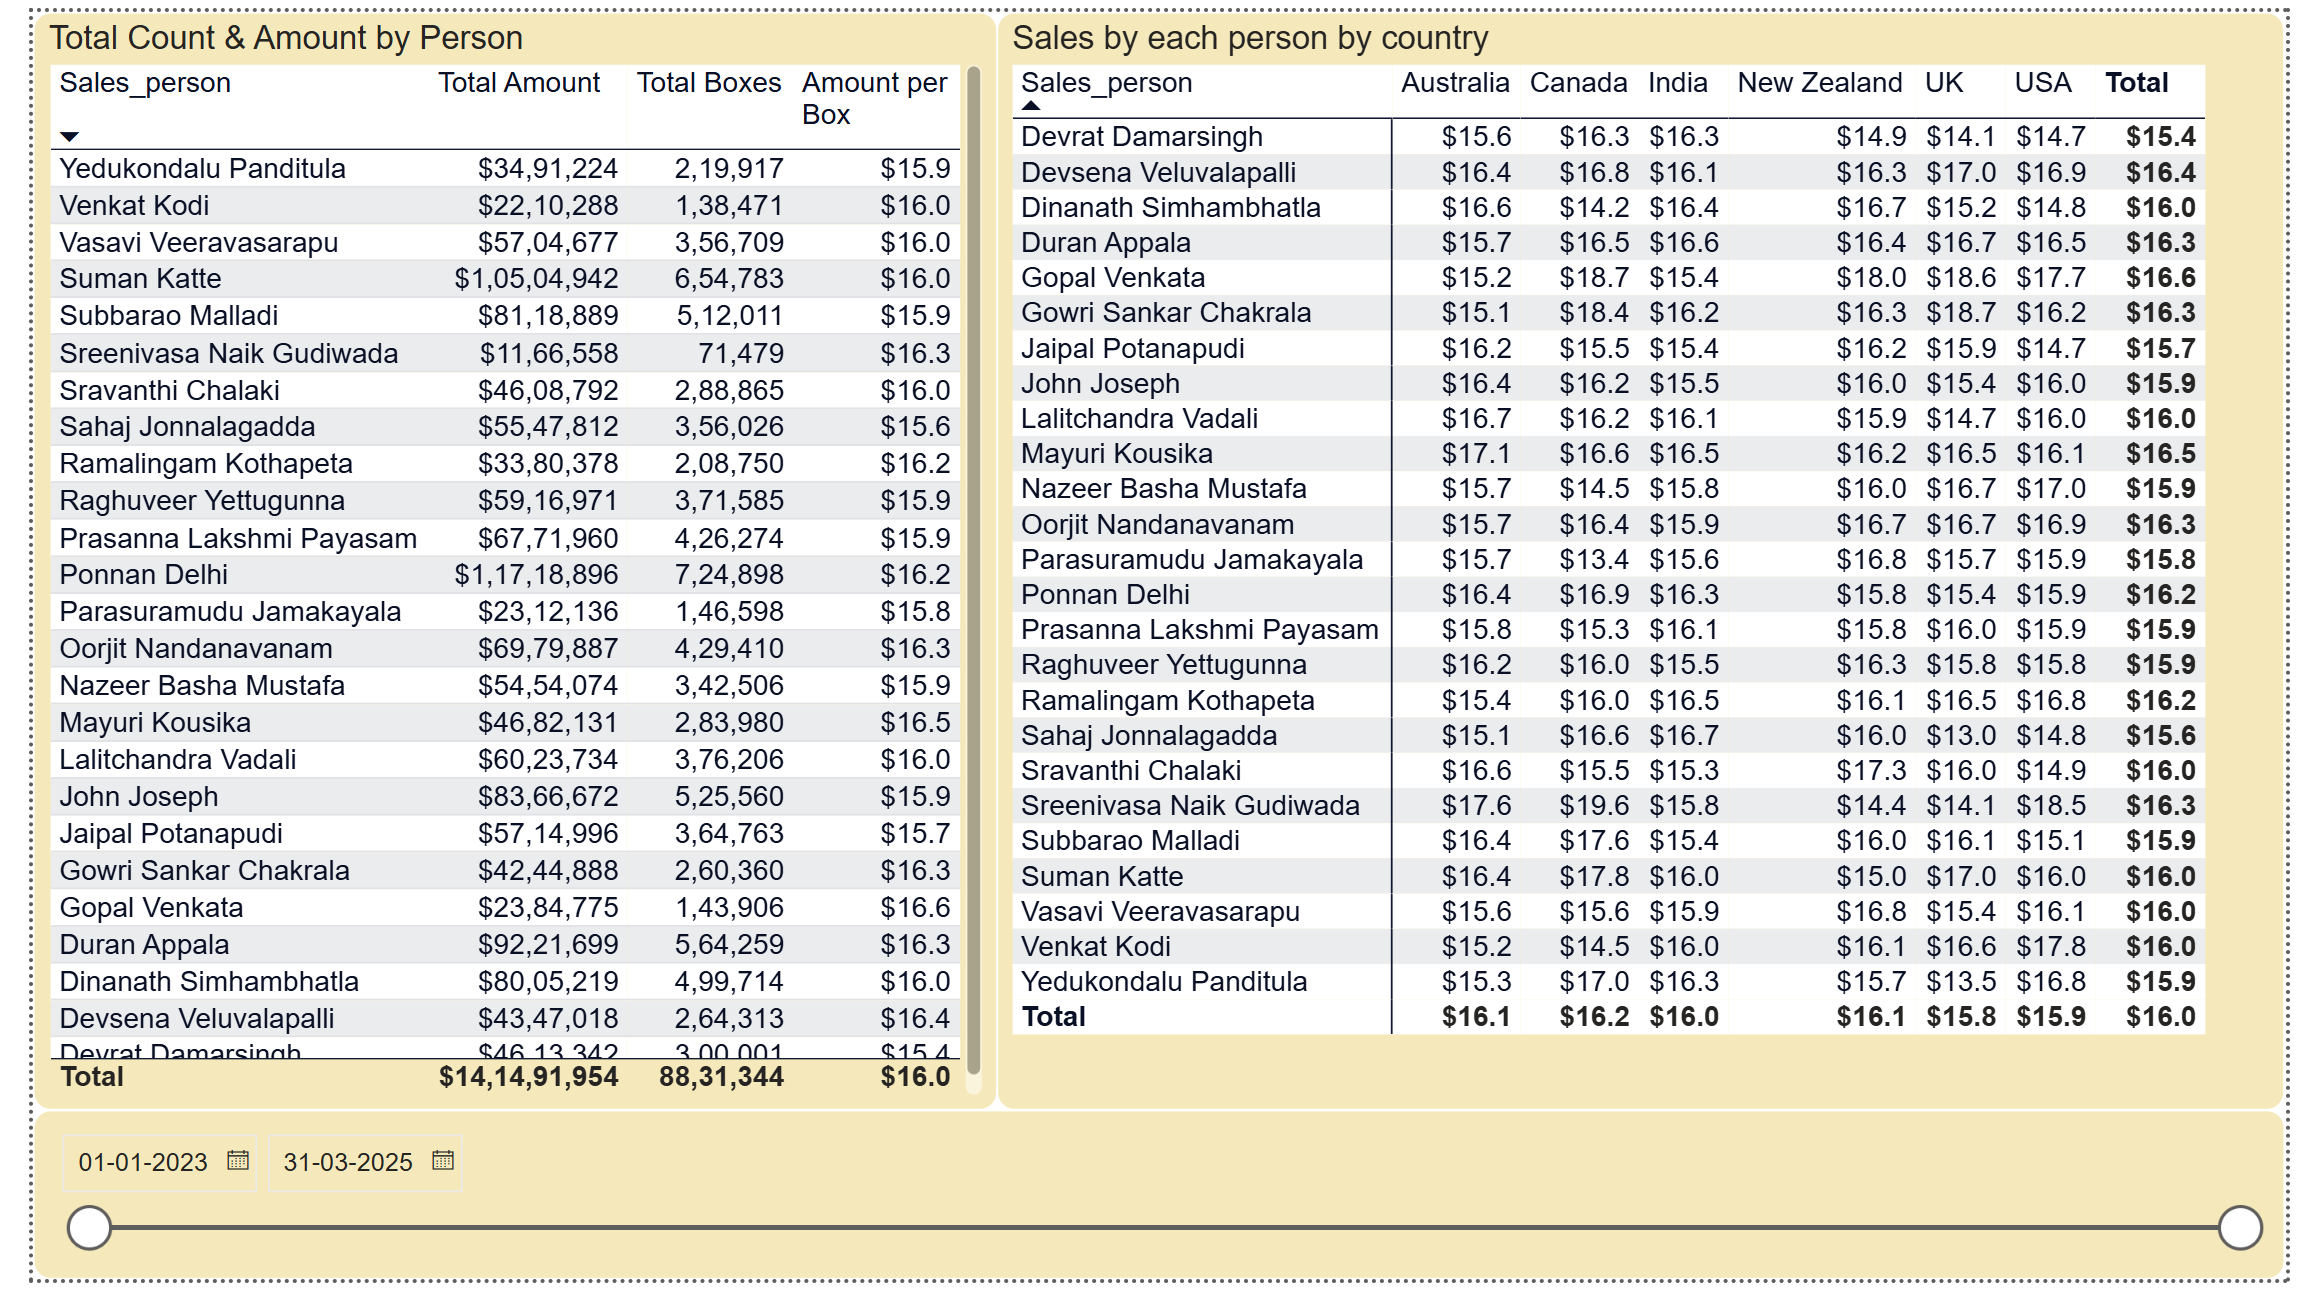

This screenshot's page, from the dashboard's own definition file:
{"tool":"powerbi","page":{"name":"Page 4","canvas":[1280,720],"ordinal":3},"visuals":[{"type":"tableEx","title":"Total Count & Amount  by Person","fields":{"Values":["people.Sales_person","shipments.Total Amount","shipments.Total Boxes","shipments.Amount per Box"]},"box":[0,0,548,624],"z":0},{"type":"pivotTable","title":"Sales by each person by country","fields":{"Rows":["people.Sales_person"],"Columns":["locations.Geo"],"Values":["shipments.Amount per Box"]},"box":[548,0,732,624],"z":1000},{"type":"slicer","fields":{"Values":["calendar.cal_date"]},"box":[0,623.5,1279.6,96.4],"z":2000}]}

Visuals, with their boxes in screenshot pixels (x1, y1, x2, y2), scaled from the page's 1280x720 canvas onto the 2322x1289 screenshot:
"Total Count & Amount  by Person" tableEx: crop(0, 0, 994, 1117)
"Sales by each person by country" pivotTable: crop(994, 0, 2321, 1117)
slicer - calendar.cal_date: crop(0, 1116, 2321, 1288)
